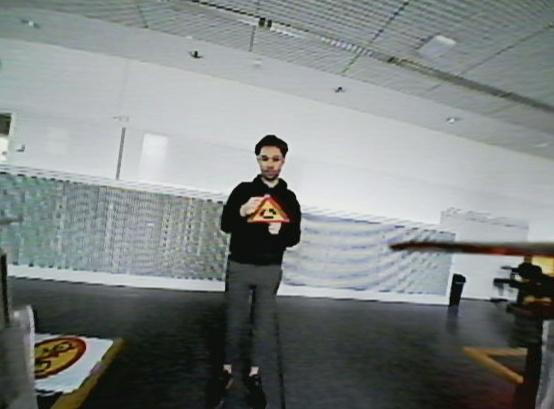roundabout_warning: (246, 194, 292, 227)
